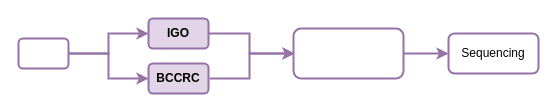
Image size: 556x111. Some labels were removed from this diagram. The box of each missing label's shape, as (x1, y1, x2, y2) in pixels:
DLP: (17, 37, 69, 69)
Spotting/Library Prep: (292, 27, 404, 79)
